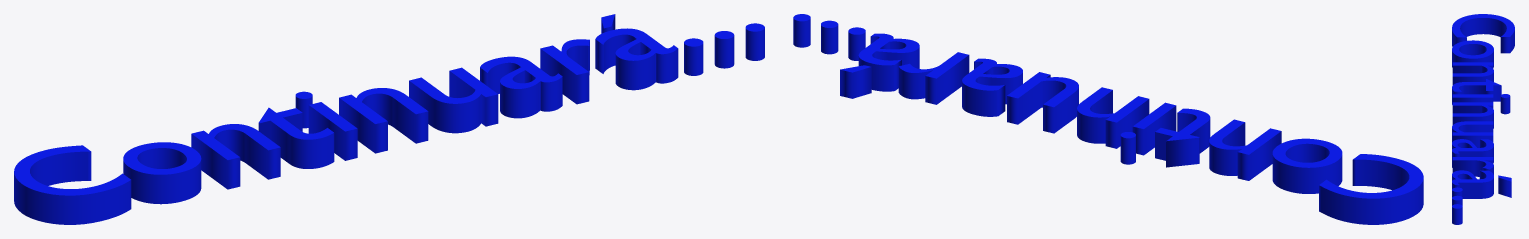
File: tercero.glb
3 renders of one model, left to right at view 1: azimuth 30°, elevation 25°; view 2: azimuth 150°, elevation 25°; view 3: azimuth 270°, elevation 25°, orthographic. The views are drawn at different scales.
Visible parts, largest first — view 1: Text; view 2: Text; view 3: Text.
Boxes of the visible parts, x1,y1,x2,y2 form: Text: (14, 14, 764, 224); Text: (793, 14, 1423, 224); Text: (1452, 14, 1514, 224).
Bounding box in the file's own units: 5.12 × 0.2 × 0.7.
